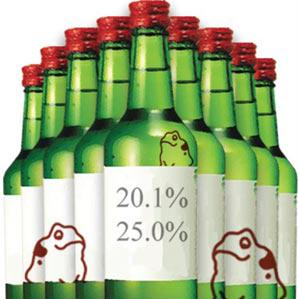soju: (2, 1, 295, 299)
